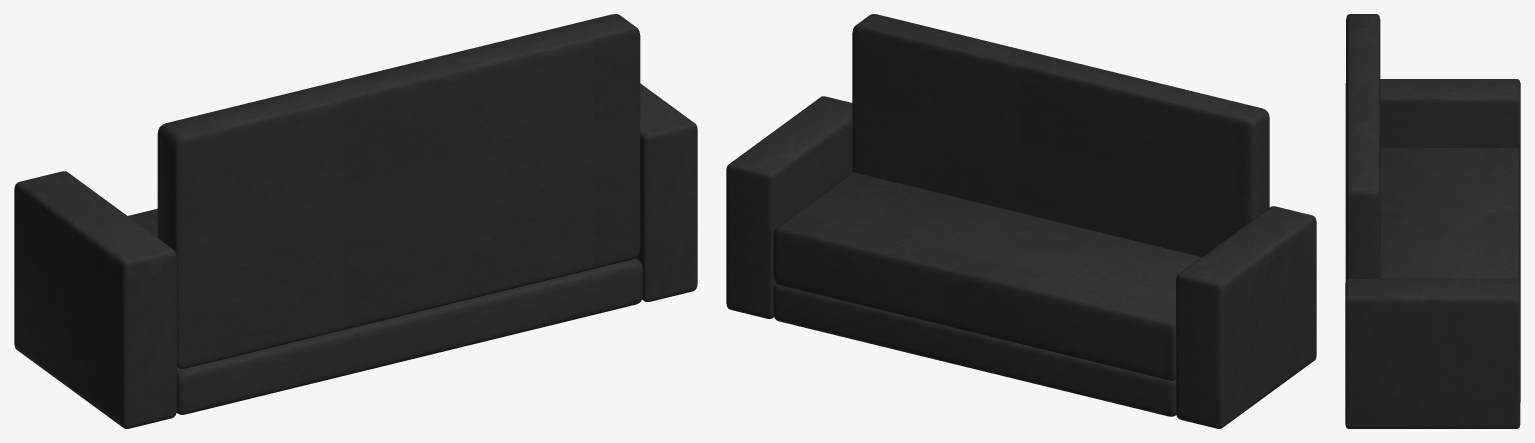
Rendered from sofa.fbx.
3 renders of one model, left to right at view 1: azimuth 30°, elevation 25°; view 2: azimuth 150°, elevation 25°; view 3: azimuth 270°, elevation 25°, orthographic. The views are drawn at different scales.
Parts seen in each view (by area): view 1: Box031; view 2: Box031; view 3: Box031.
Boxes of the visible parts, x1,y1,x2,y2 form: Box031: [14, 14, 697, 428]; Box031: [726, 14, 1316, 428]; Box031: [1345, 14, 1520, 428].
Bounding box in the file's own units: 289 × 134 × 97.07.
Materials: 1 (1 with a texture image).
